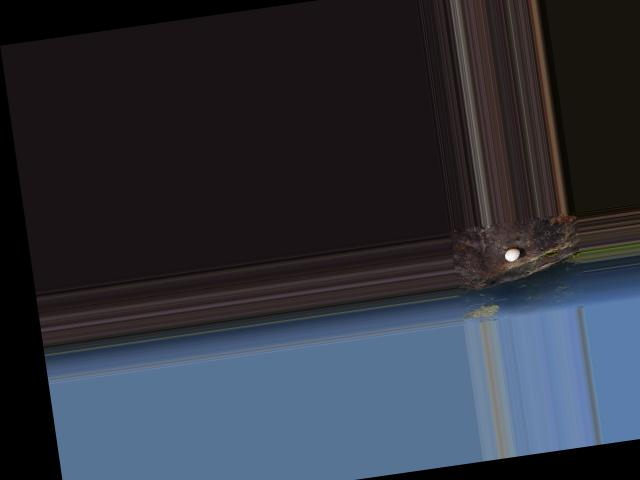egg: (502, 247, 520, 262)
